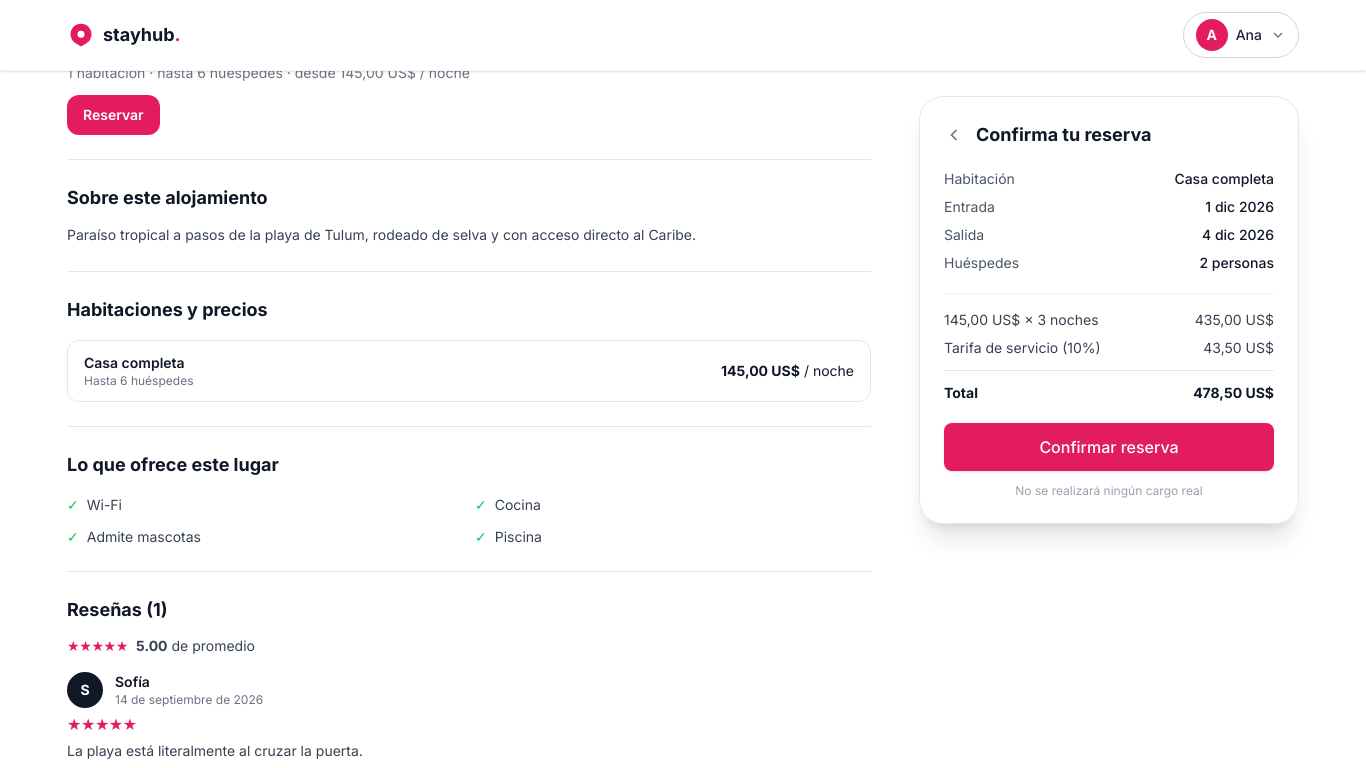
Test: PropertyDetail › restores a pending booking after login and confirms it
(page scrolled)
Expected: the heading "Confirma tu reserva" is shown, [976,121,1152,149]
Click the button "Confirmar reserva" at (1109, 447), box [944,423,1274,471]
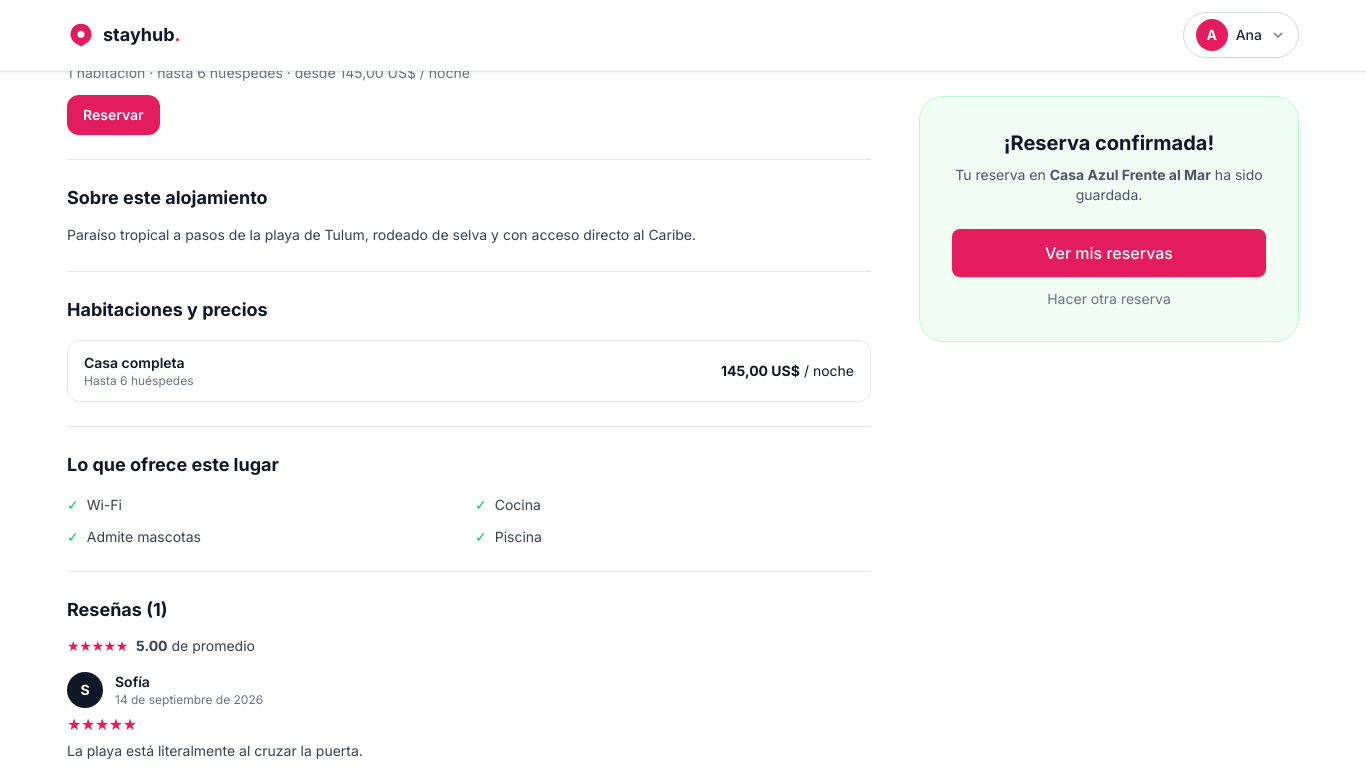
Expected: the heading "¡Reserva confirmada!" is shown, [1004,131,1214,155]
